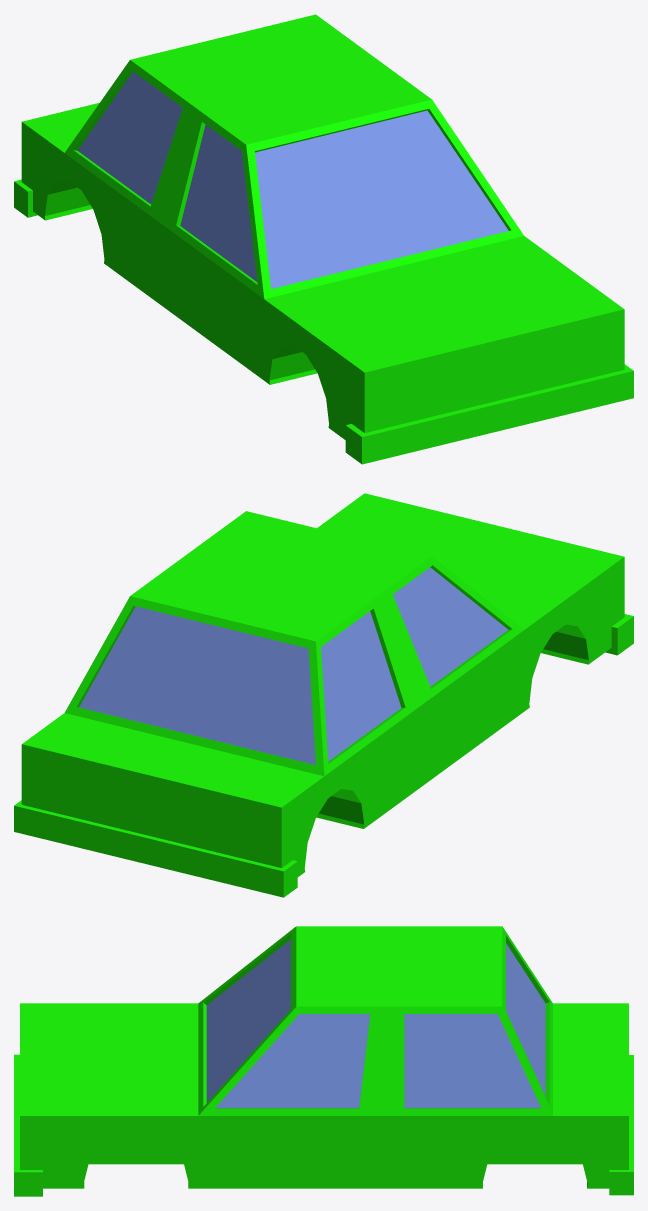
Rendered from body_green.gltf.
3 renders of one model, top to bottom at view 1: azimuth 30°, elevation 25°; view 2: azimuth 150°, elevation 25°; view 3: azimuth 270°, elevation 25°, orthographic. The views are drawn at different scales.
Visible parts, largest first — view 1: Body; view 2: Body; view 3: Body.
Boxes of the visible parts, <box> form: Body: <box>14,14,633,464</box>; Body: <box>14,493,633,897</box>; Body: <box>14,926,633,1196</box>.
Size of what is drawn, in the model's own units: 2.09 by 1.42 by 4.65.
